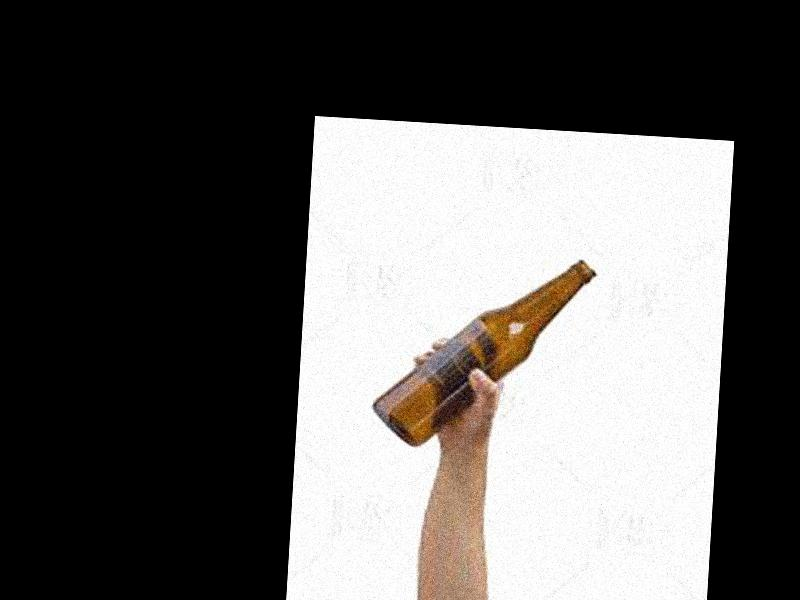Beer: (368, 248, 595, 456)
